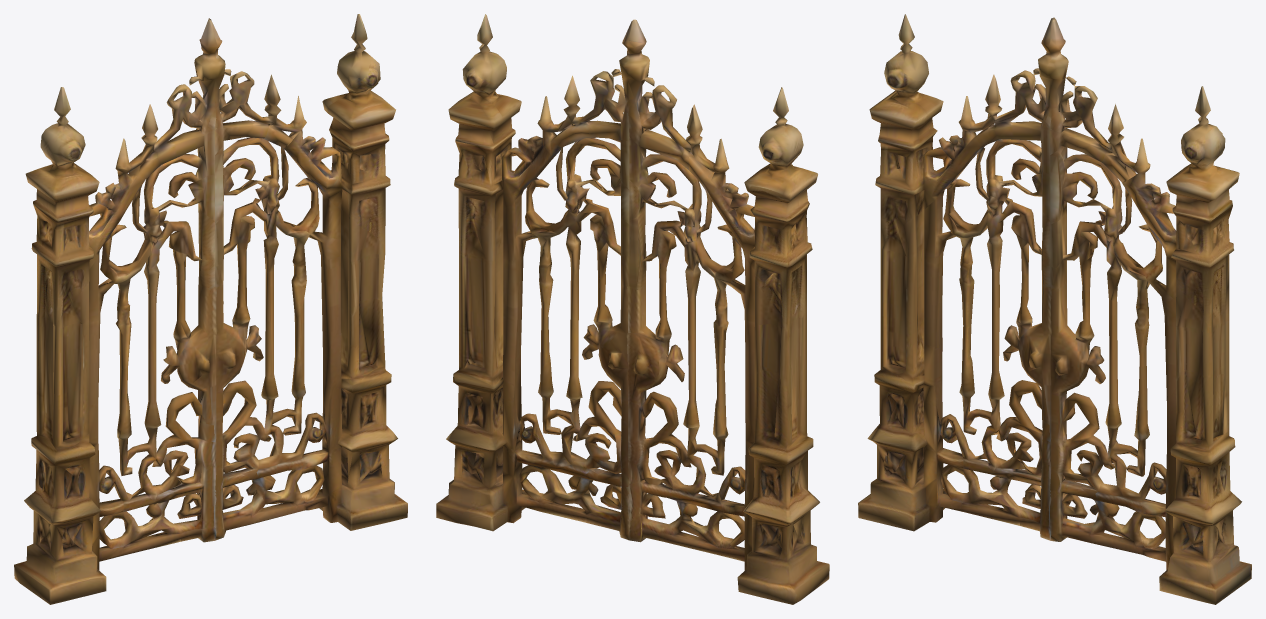
Rendered from goal.glb.
3 views of the same model, side by side, from view 1: azimuth 30°, elevation 25°; view 2: azimuth 150°, elevation 25°; view 3: azimuth 330°, elevation 25° (orthographic).
Visible parts, largest first — view 1: tripo_node_787564e4-de89-492e-88ff-8e5a8ee1b184; view 2: tripo_node_787564e4-de89-492e-88ff-8e5a8ee1b184; view 3: tripo_node_787564e4-de89-492e-88ff-8e5a8ee1b184.
Part boxes in pixels (x1=…): tripo_node_787564e4-de89-492e-88ff-8e5a8ee1b184: x1=14, y1=14, x2=407, y2=604; tripo_node_787564e4-de89-492e-88ff-8e5a8ee1b184: x1=436, y1=14, x2=829, y2=604; tripo_node_787564e4-de89-492e-88ff-8e5a8ee1b184: x1=858, y1=14, x2=1251, y2=604.
Size of the model in its own units: 0.9892 by 1.4 by 0.1748.
Materials: 1 (1 with a texture image).
